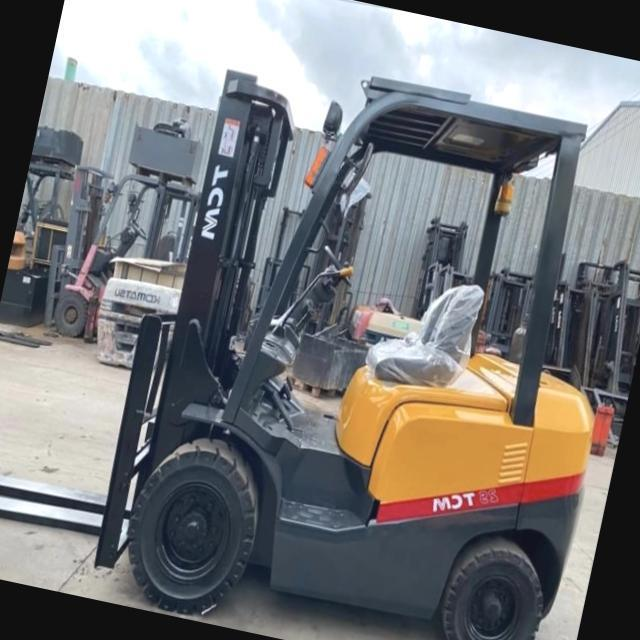forklift: (65, 50, 640, 640)
